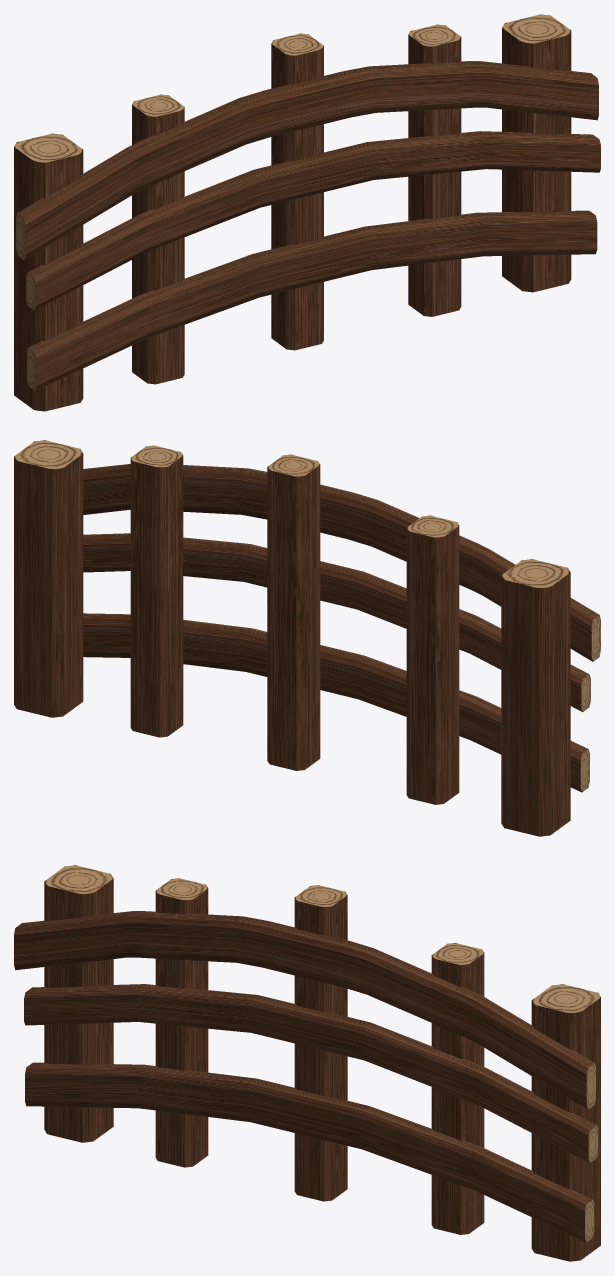
The model's file is fence2.fbx.
3 views of the same model, one above another, from view 1: azimuth 30°, elevation 25°; view 2: azimuth 150°, elevation 25°; view 3: azimuth 330°, elevation 25° (orthographic).
Visible parts, largest first — view 1: Cube.012; view 2: Cube.012; view 3: Cube.012.
Boxes of the visible parts, <box> form: Cube.012: <box>14,14,600,411</box>; Cube.012: <box>14,440,600,836</box>; Cube.012: <box>14,865,600,1261</box>.
Size of the model in its own units: 140 by 68.43 by 14.76.
